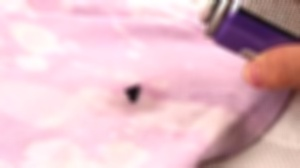ink: (125, 84, 143, 103)
